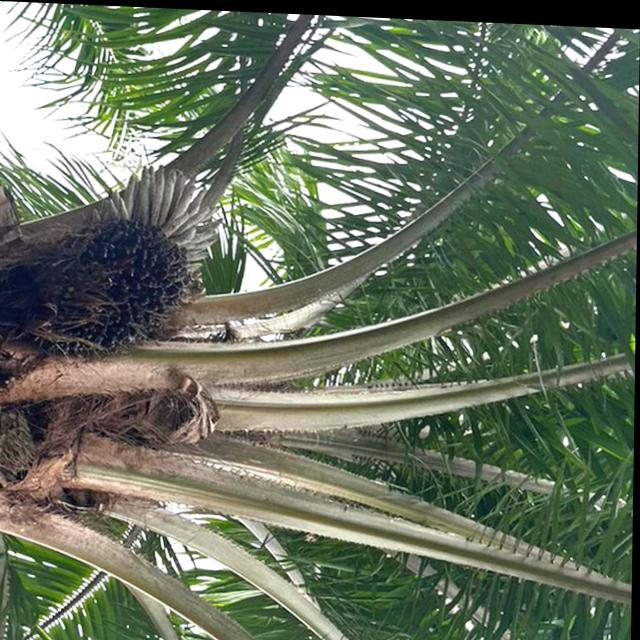unripe: (0, 215, 187, 363)
